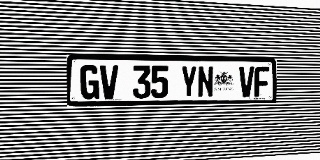3: (133, 65, 150, 99)
5: (151, 65, 168, 98)
F: (254, 67, 269, 97)
G: (80, 65, 99, 99)
N: (197, 66, 214, 98)
V: (100, 65, 118, 99), (239, 66, 254, 97)
Y: (180, 66, 197, 98)
